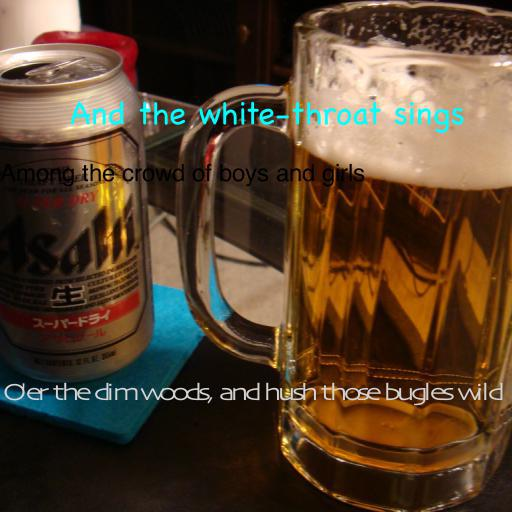Chalkboard: (69, 101, 465, 134)
Impact: (0, 163, 365, 187)
Skia: (3, 382, 501, 406)
